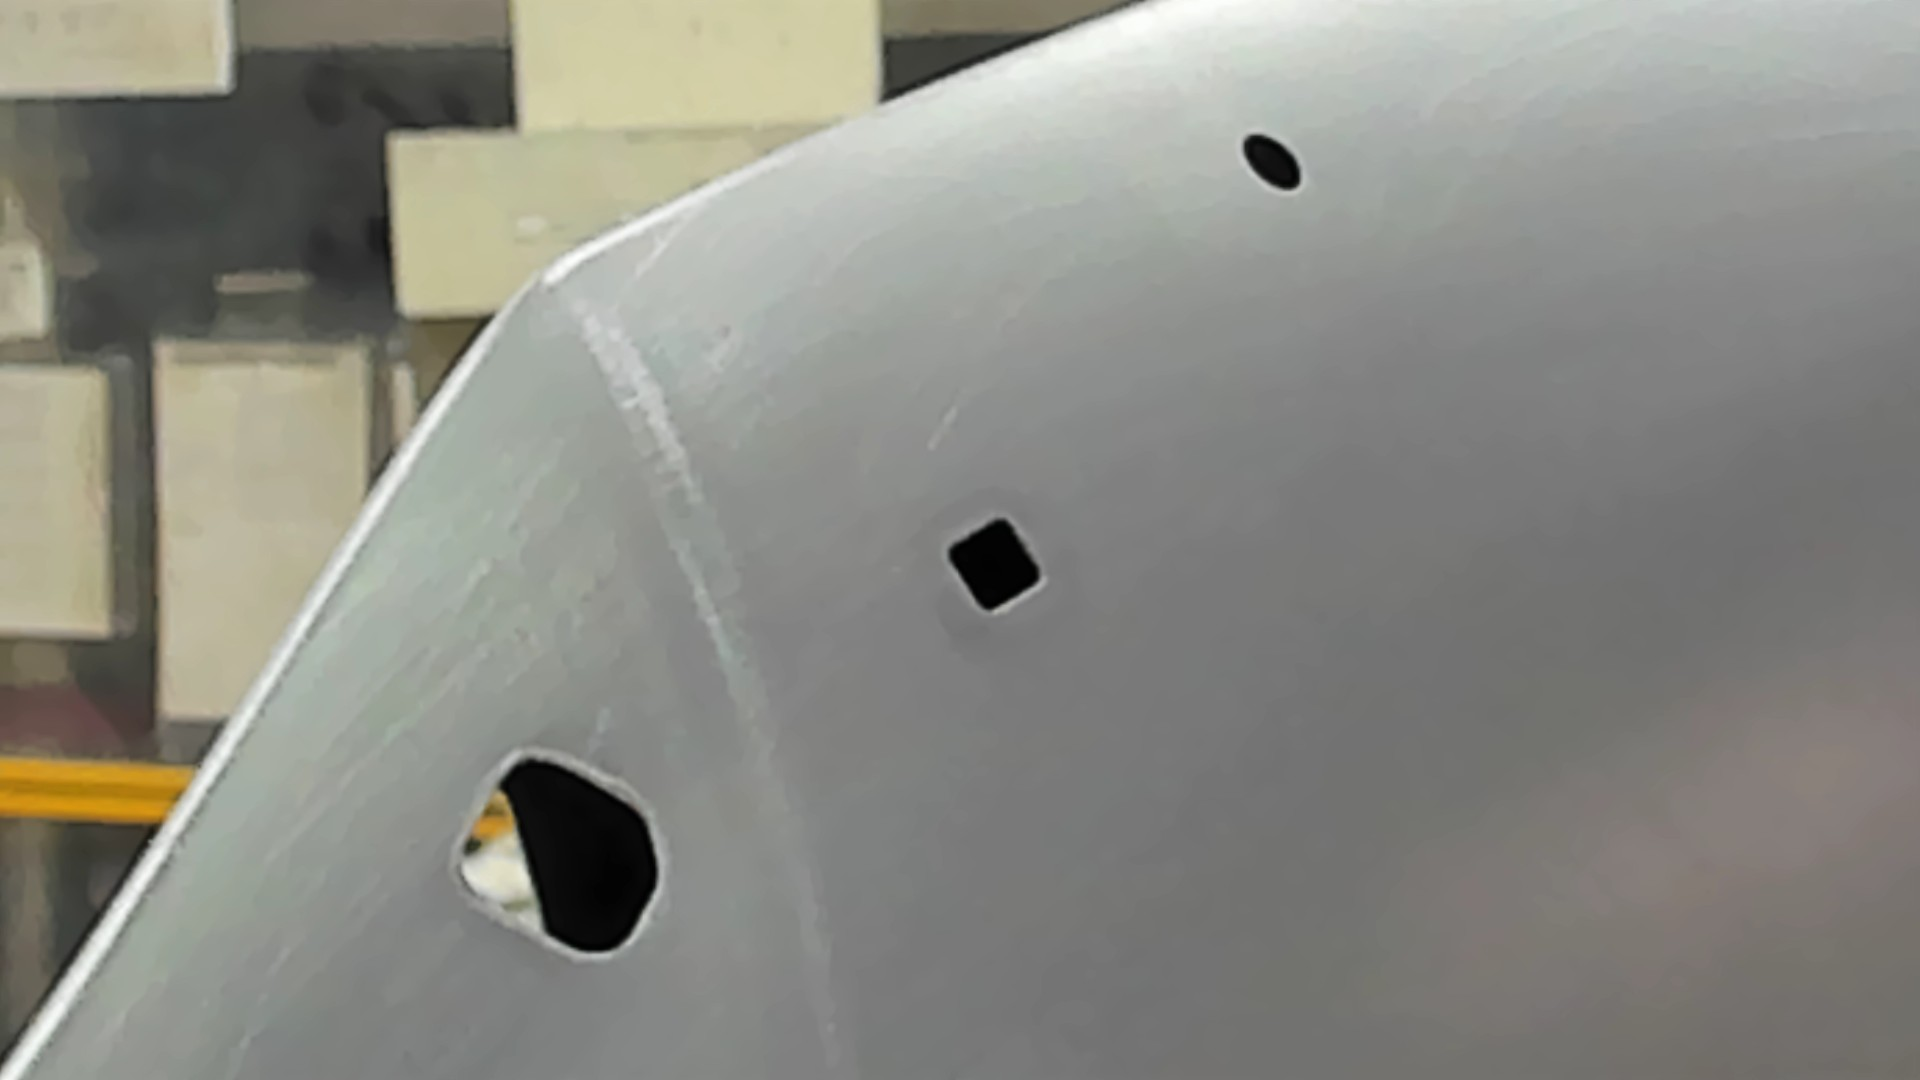chico: (1240, 127, 1305, 196)
grande: (443, 744, 673, 971)
mediano: (938, 512, 1048, 622)
